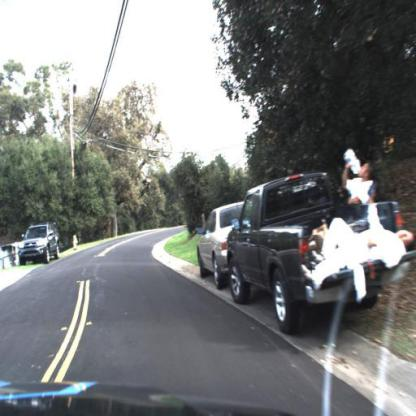car: (225, 152, 416, 331), (197, 200, 245, 290), (14, 223, 65, 267)
pedestrian: (342, 150, 376, 251)
